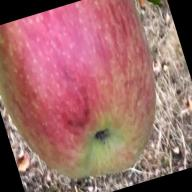Apples: (0, 0, 182, 192)
